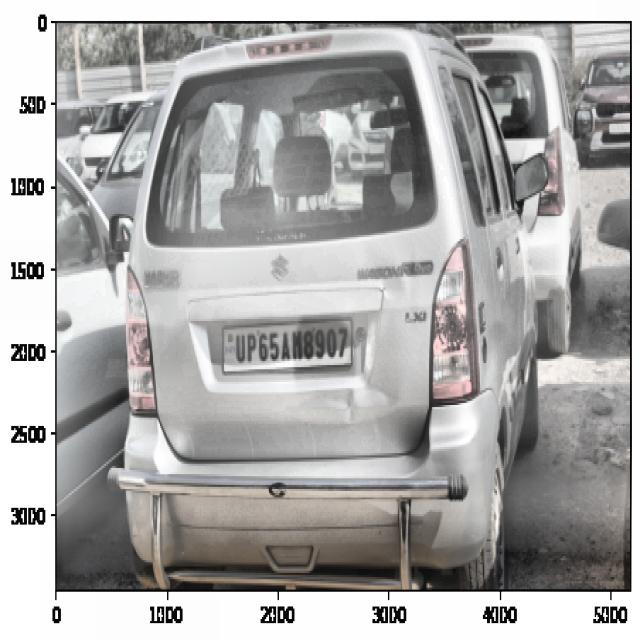license_plate: (230, 328, 354, 370)
